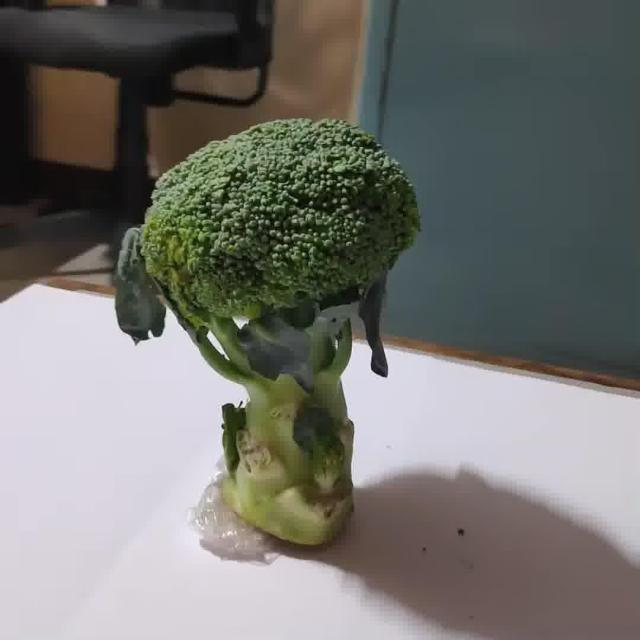Broccoli: (113, 120, 419, 546)
